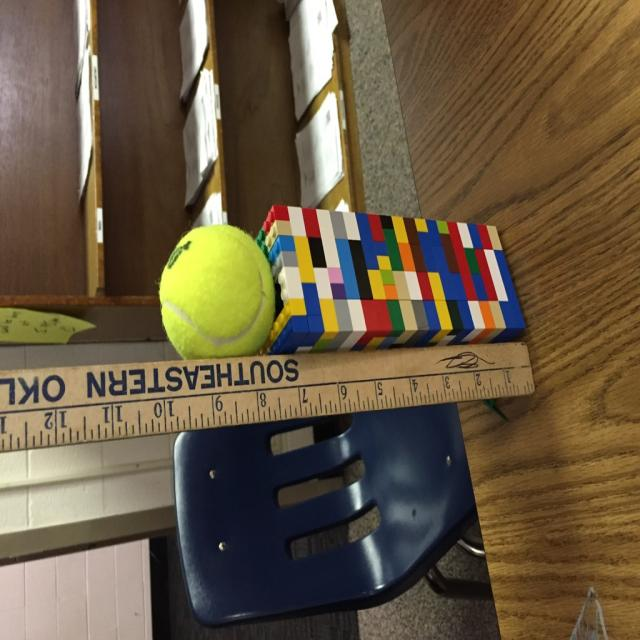Tennis ball: (160, 223, 272, 359)
